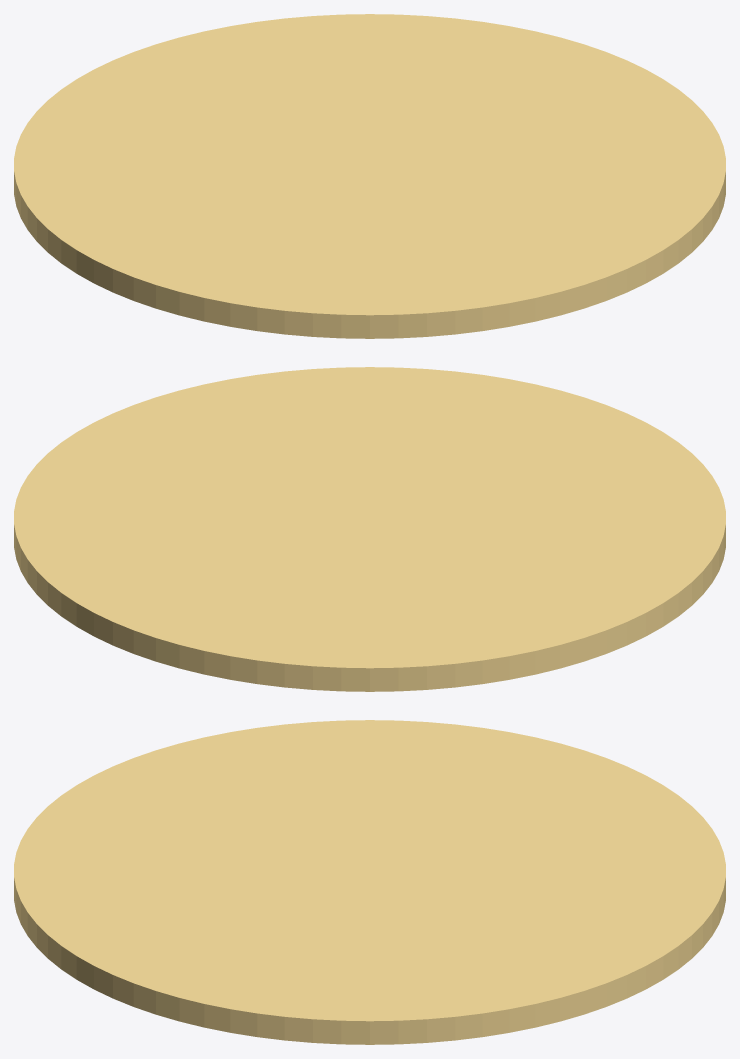
3 renders of one model, top to bottom at view 1: azimuth 30°, elevation 25°; view 2: azimuth 150°, elevation 25°; view 3: azimuth 270°, elevation 25°, orthographic.
Visible parts, largest first — view 1: Cylinder 1.002; view 2: Cylinder 1.002; view 3: Cylinder 1.002.
Boxes of the visible parts, x1=… form: Cylinder 1.002: x1=14, y1=14, x2=725, y2=338; Cylinder 1.002: x1=14, y1=367, x2=725, y2=691; Cylinder 1.002: x1=14, y1=720, x2=725, y2=1044.
Size of the model in its own units: 1.71 by 0.0626 by 1.71.
